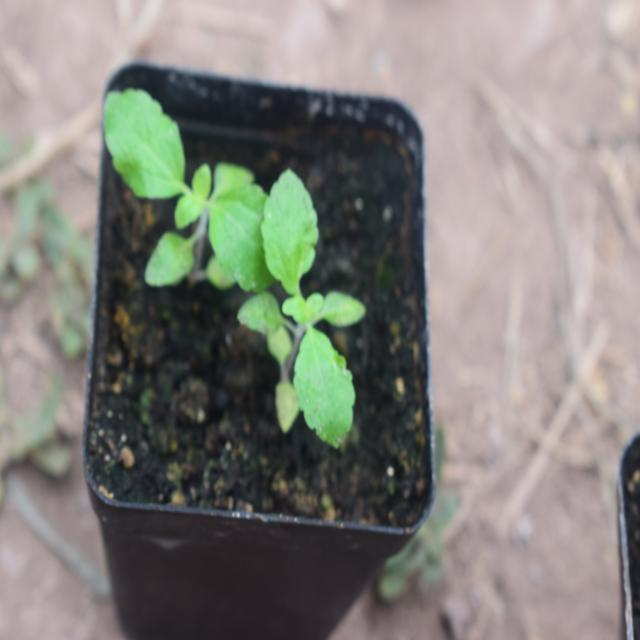billygoat_weed: (240, 124, 372, 461), (104, 84, 255, 297)
